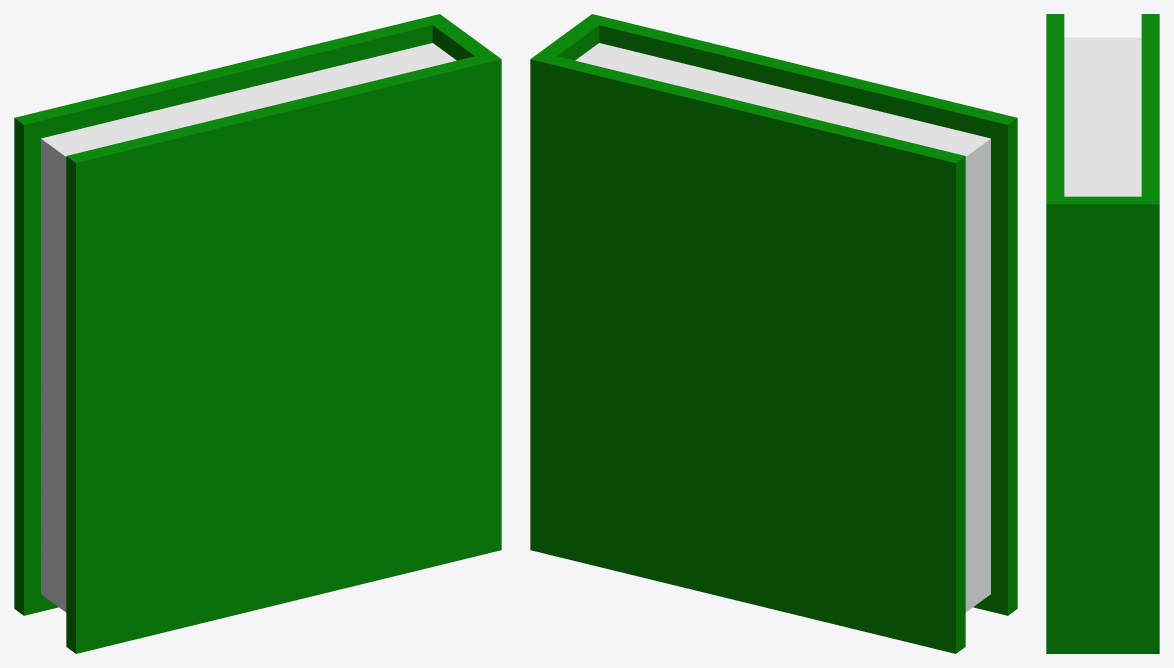
Rendered from Prop_book_003.FBX.
3 views of the same model, side by side, from view 1: azimuth 30°, elevation 25°; view 2: azimuth 150°, elevation 25°; view 3: azimuth 270°, elevation 25° (orthographic). The views are drawn at different scales.
Visible parts, largest first — view 1: Prop_book_003; view 2: Prop_book_003; view 3: Prop_book_003.
Boxes of the visible parts, bbox=[...] form: Prop_book_003: bbox=[14, 14, 501, 653]; Prop_book_003: bbox=[530, 14, 1017, 653]; Prop_book_003: bbox=[1046, 14, 1159, 653].
Bounding box in the file's own units: 0.2522 × 0.278 × 0.0635.
